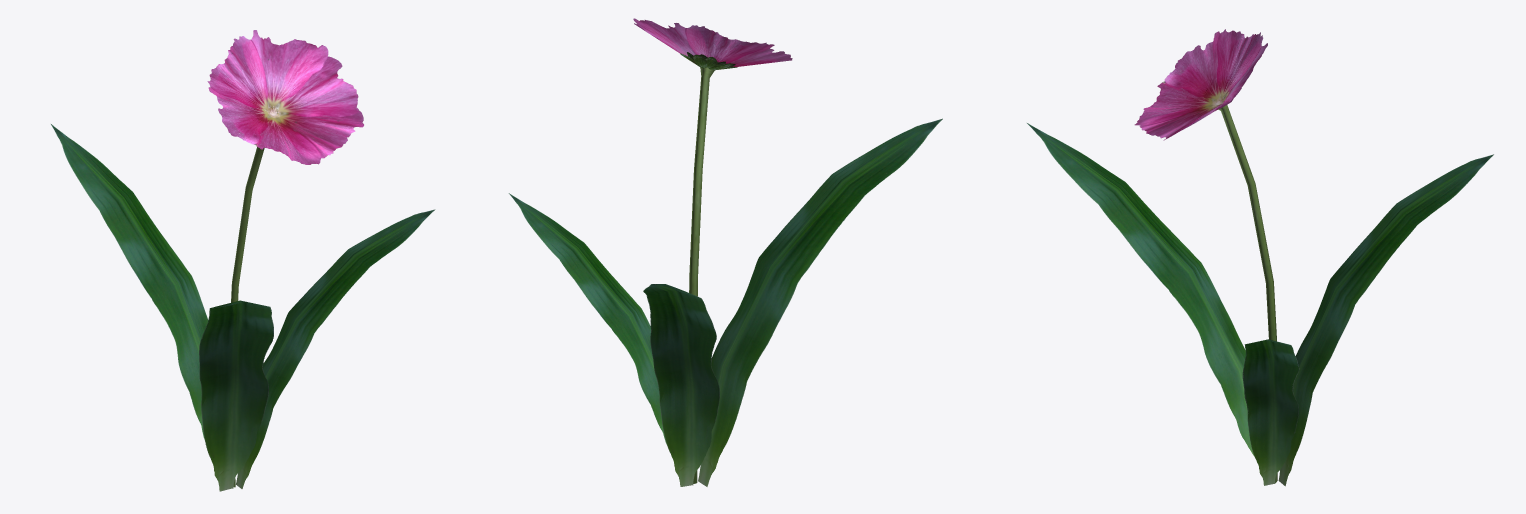
The model's file is Flower_04.FBX.
3 views of the same model, side by side, from view 1: azimuth 30°, elevation 25°; view 2: azimuth 150°, elevation 25°; view 3: azimuth 270°, elevation 25° (orthographic).
Parts seen in each view (by area): view 1: Flower_04; view 2: Flower_04; view 3: Flower_04.
Boxes of the visible parts, <box> form: Flower_04: <box>51,30,435,491</box>; Flower_04: <box>508,18,942,486</box>; Flower_04: <box>1027,29,1493,486</box>.
Size of the model in its own units: 0.909 by 1.16 by 1.17.
